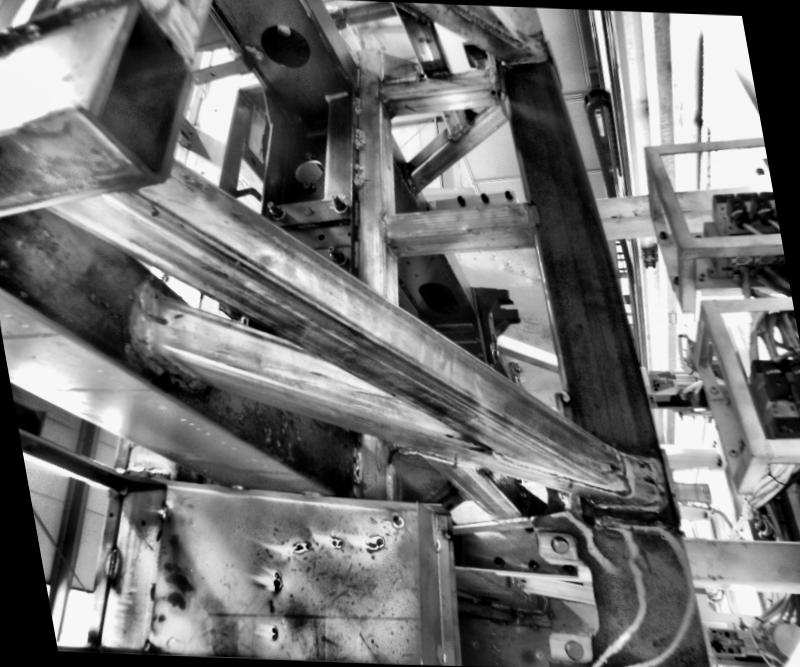bolt: (328, 192, 349, 214), (326, 244, 347, 264), (266, 198, 286, 218)
bracket: (469, 280, 528, 369)
hole: (255, 22, 309, 70), (416, 279, 465, 317), (290, 158, 326, 184), (562, 639, 585, 659), (546, 534, 570, 552), (146, 312, 172, 328), (298, 202, 316, 214), (315, 233, 324, 241), (139, 520, 148, 528), (107, 510, 114, 519), (388, 243, 397, 249), (383, 164, 391, 170)
welding: (138, 290, 172, 356), (585, 501, 683, 516), (658, 461, 673, 513), (102, 547, 123, 582), (621, 448, 634, 499), (524, 202, 542, 228), (351, 162, 366, 184), (225, 483, 249, 496), (353, 127, 366, 147), (380, 213, 388, 242), (299, 491, 327, 499), (160, 507, 170, 518)
